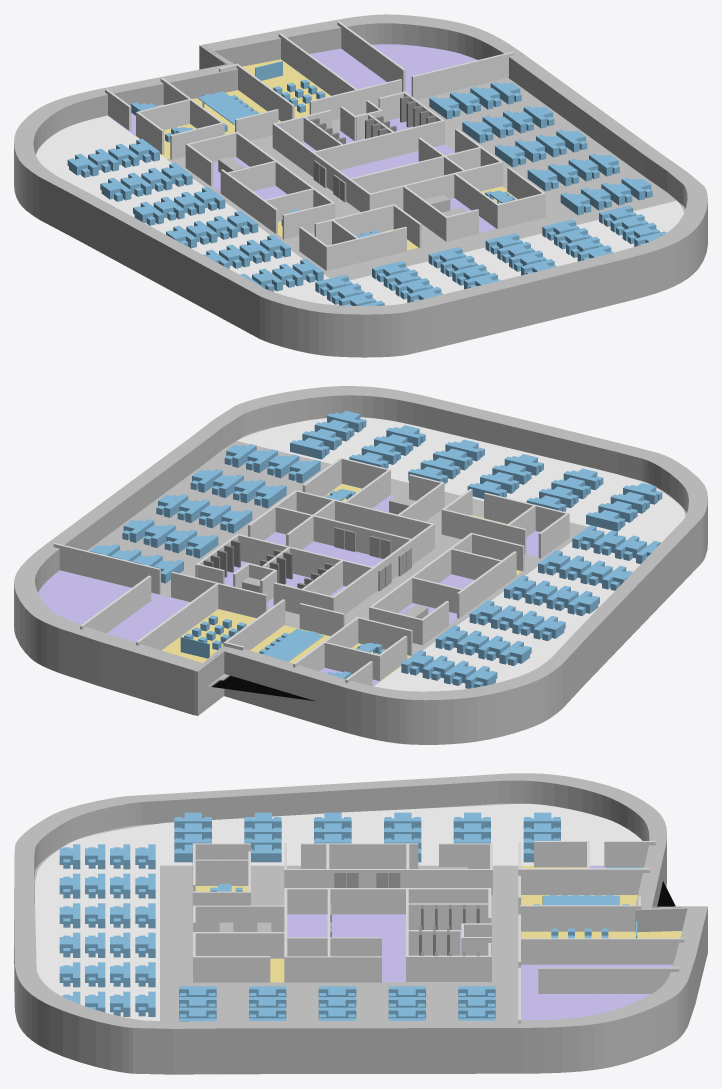
The picture shows the model from 3 angles, top to bottom: view 1: azimuth 30°, elevation 25°; view 2: azimuth 150°, elevation 25°; view 3: azimuth 270°, elevation 25°; orthographic projection. The views are drawn at different scales.
Visible parts, largest first — view 1: _35F.1; view 2: _35F.1; view 3: _35F.1.
Boxes of the visible parts, bbox=[...] form: _35F.1: bbox=[14, 14, 707, 357]; _35F.1: bbox=[14, 386, 707, 744]; _35F.1: bbox=[14, 773, 707, 1074].
Bounding box in the file's own units: 433 × 38.71 × 497.
1 material, 1 textured.
